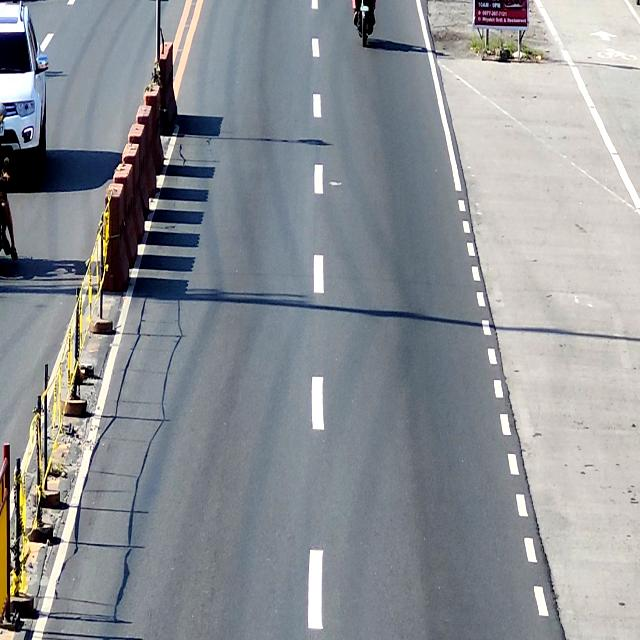Car: (0, 0, 49, 179)
License-Plate: (0, 121, 5, 136), (360, 5, 369, 11)
Motorcycle: (354, 0, 374, 45)
